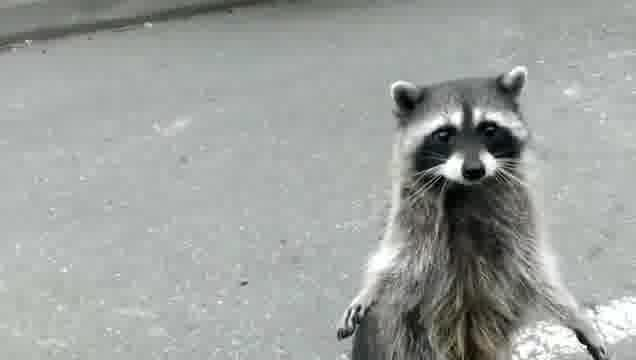raccoon: (340, 65, 609, 360)
